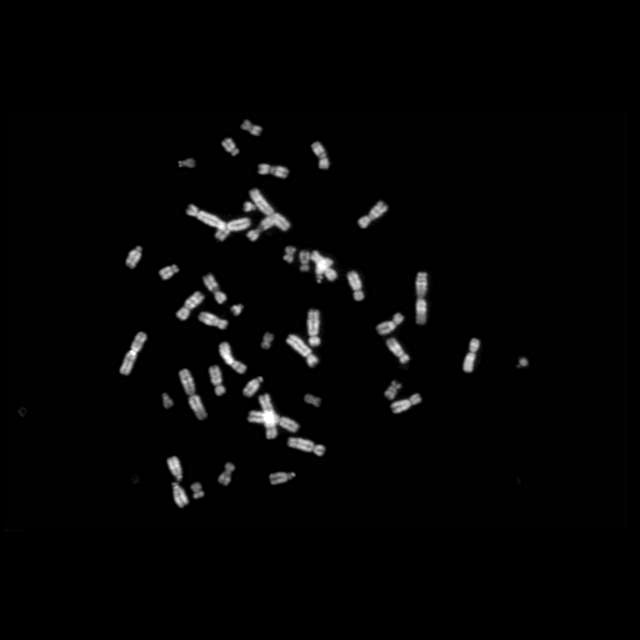chromosome: (250, 188, 290, 230), (180, 369, 207, 419), (120, 332, 146, 376), (186, 205, 228, 231), (248, 412, 300, 432), (286, 335, 318, 367), (310, 249, 338, 281), (216, 218, 252, 242), (246, 214, 278, 240), (176, 292, 204, 321), (220, 343, 247, 373), (358, 202, 388, 228), (288, 436, 324, 456), (203, 274, 227, 304), (260, 394, 276, 438), (415, 272, 427, 324), (462, 338, 480, 372), (390, 393, 422, 412), (386, 338, 409, 364), (377, 312, 403, 334), (198, 312, 228, 331), (311, 141, 329, 169), (307, 310, 321, 346), (348, 271, 364, 301), (209, 366, 225, 396), (316, 258, 334, 284), (258, 164, 288, 178), (172, 482, 188, 508), (218, 462, 235, 486), (243, 377, 263, 397), (125, 246, 143, 268), (384, 381, 402, 401), (240, 120, 262, 136), (167, 458, 183, 480), (158, 264, 178, 280), (222, 138, 238, 156), (270, 472, 294, 484), (300, 251, 310, 273), (192, 482, 204, 500), (261, 332, 273, 350), (162, 393, 174, 409), (283, 247, 295, 263), (306, 394, 320, 406), (244, 201, 258, 213), (179, 158, 195, 168), (231, 304, 243, 316), (516, 358, 528, 368)
